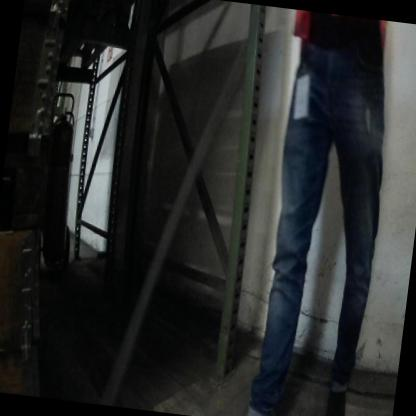pallet: (27, 0, 138, 89)
